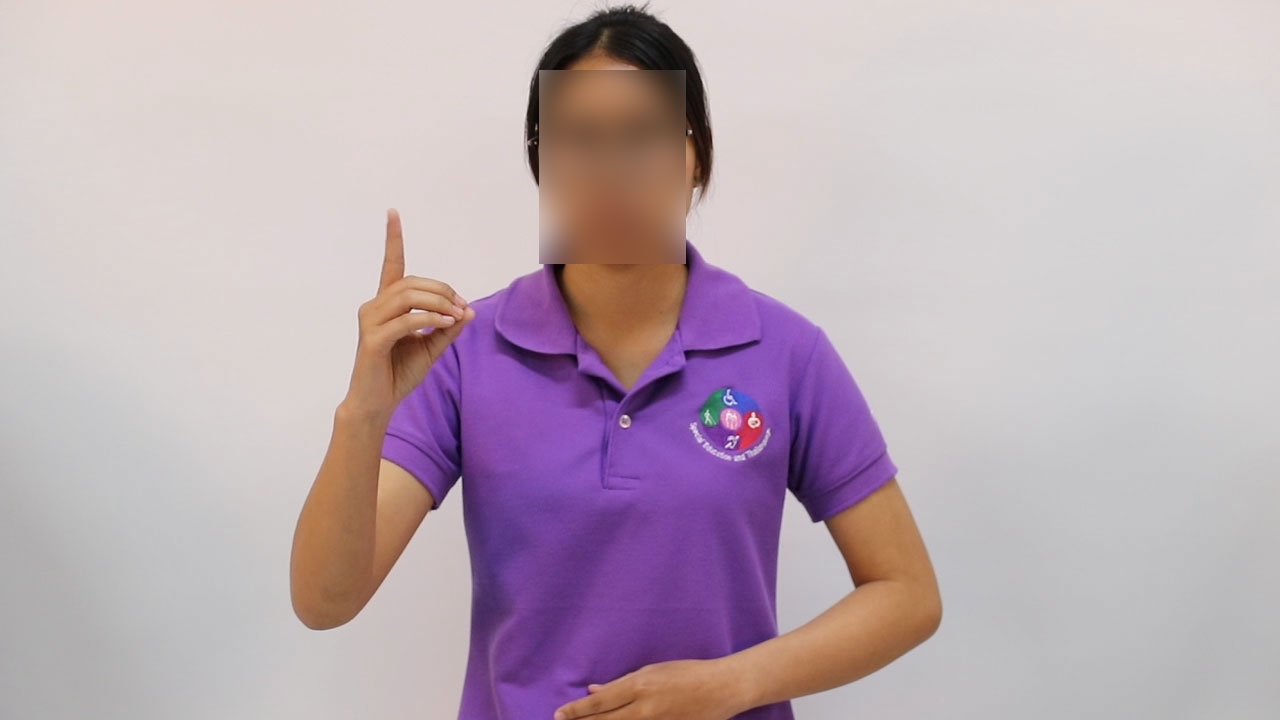dor: (326, 198, 481, 415)
